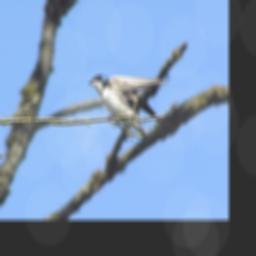Swallow: (87, 73, 169, 143)
